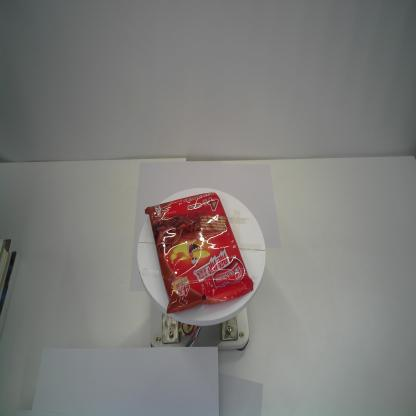Dessert: (145, 192, 254, 314)
